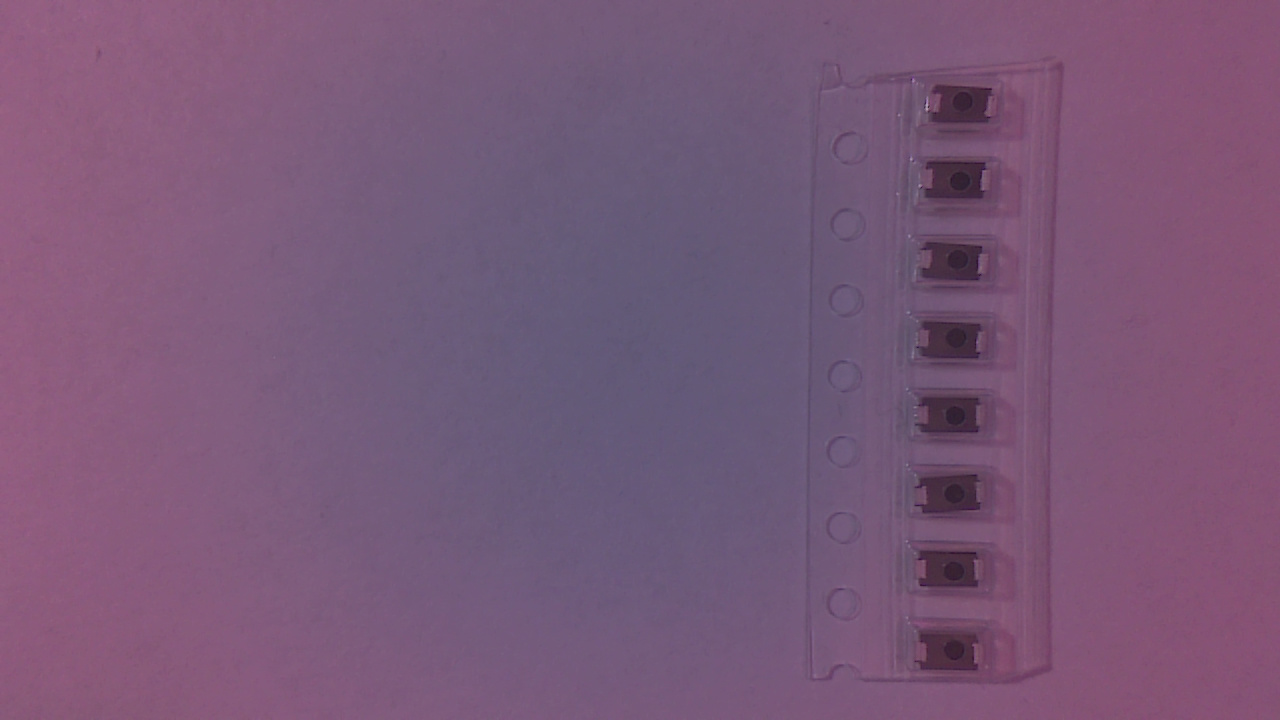Diode: (924, 85, 1002, 134), (922, 241, 994, 293), (919, 322, 992, 368), (918, 477, 991, 523), (924, 163, 996, 209), (919, 398, 990, 444), (920, 633, 990, 678), (918, 551, 990, 593)
